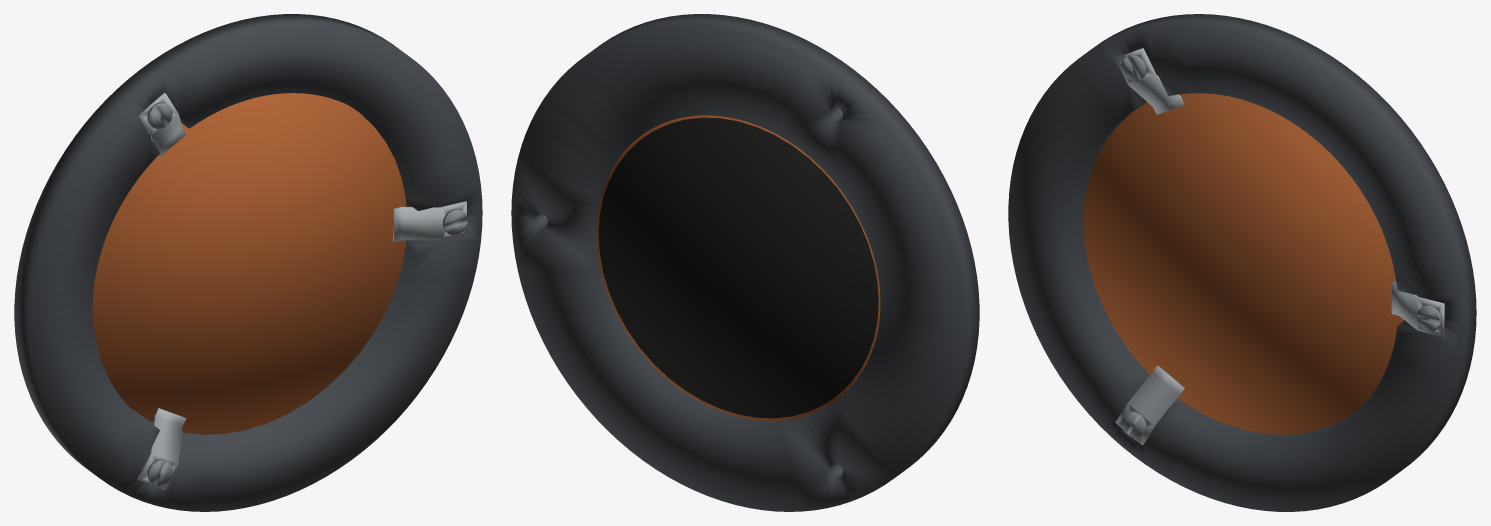
File: witness_black.glb
3 renders of one model, left to right at view 1: azimuth 30°, elevation 25°; view 2: azimuth 150°, elevation 25°; view 3: azimuth 330°, elevation 25°, orthographic.
Parts seen in each view (by area): view 1: annular_carrier, copper_witness, spring_clip_0, spring_clip_240, spring_clip_120, retainer_screw_120, retainer_screw_240, retainer_screw_0; view 2: annular_carrier, paint_coat_1, copper_witness; view 3: annular_carrier, copper_witness, spring_clip_240, spring_clip_120, spring_clip_0, retainer_screw_120, retainer_screw_240, retainer_screw_0.
Part boxes in pixels (x1,y1,x2,y2): annular_carrier: (14,14,482,511); copper_witness: (92,93,406,434); spring_clip_0: (393,201,466,241); spring_clip_240: (137,408,186,489); spring_clip_120: (137,92,186,157); retainer_screw_120: (147,102,172,129); retainer_screw_240: (147,459,172,485); retainer_screw_0: (442,209,467,235); annular_carrier: (511,14,979,511); paint_coat_1: (598,118,878,418); copper_witness: (596,115,880,420); annular_carrier: (1008,14,1476,511); copper_witness: (1083,93,1404,434); spring_clip_240: (1115,365,1184,445); spring_clip_120: (1115,48,1184,114); spring_clip_0: (1391,280,1444,336); retainer_screw_120: (1121,54,1146,81); retainer_screw_240: (1121,411,1146,437); retainer_screw_0: (1416,305,1441,331).
Size of the model in its own units: 0.035 by 0.035 by 0.00248.
